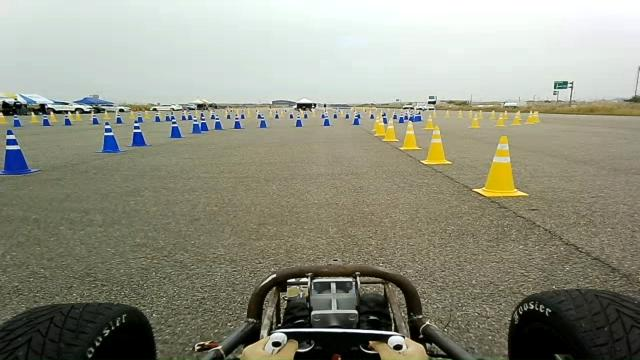blue cone: (0, 129, 40, 174), (95, 121, 126, 153), (126, 120, 151, 147), (168, 117, 185, 138), (188, 115, 202, 133), (198, 112, 208, 131), (232, 112, 242, 129), (214, 113, 224, 130), (257, 113, 268, 128), (41, 111, 51, 126), (12, 114, 22, 127), (63, 112, 72, 125), (115, 111, 124, 124), (90, 114, 100, 124), (295, 115, 303, 127), (153, 113, 161, 122), (136, 113, 144, 122)
yellow cone: (471, 135, 529, 198), (420, 128, 452, 165), (398, 120, 422, 150), (381, 119, 399, 142), (422, 112, 437, 130), (373, 122, 386, 136), (49, 111, 58, 122), (29, 112, 38, 122), (0, 112, 7, 123), (102, 110, 110, 119), (74, 112, 82, 121), (128, 111, 136, 119), (143, 109, 149, 118)
